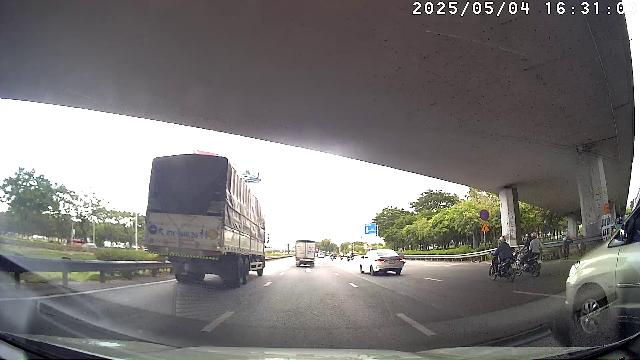130-cam-dung-va-do-xe: (479, 209, 490, 221)
